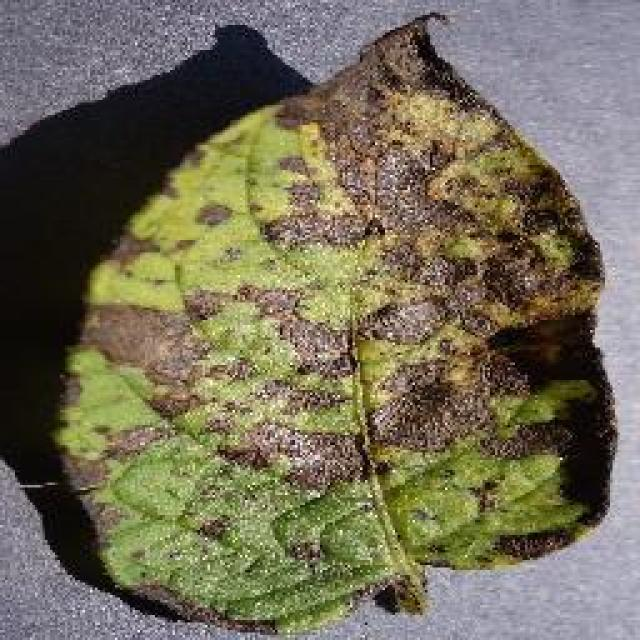early_blight: (50, 10, 620, 638)
